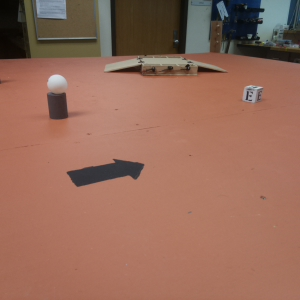blockE: (243, 85, 265, 106)
corner: (210, 21, 223, 55)
obstacle: (47, 73, 72, 122)
side: (138, 63, 200, 78)
slope: (103, 57, 138, 78), (192, 59, 228, 75)
start: (68, 156, 145, 191)
